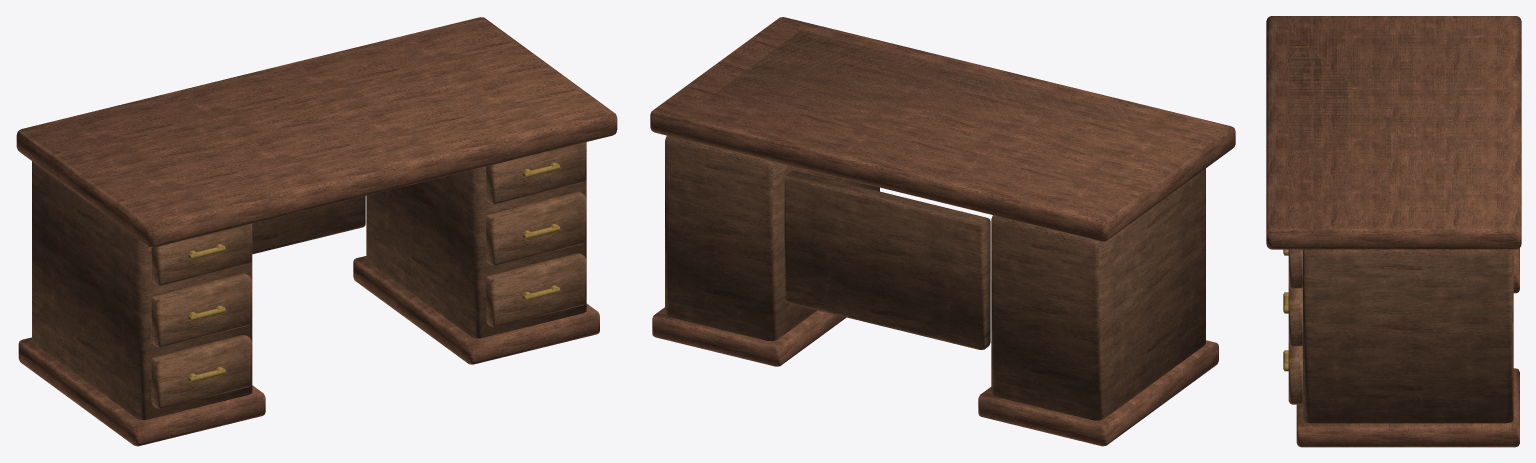
Rendered from asset_066_office_laptop_desk.glb.
3 views of the same model, side by side, from view 1: azimuth 30°, elevation 25°; view 2: azimuth 150°, elevation 25°; view 3: azimuth 270°, elevation 25° (orthographic). The views are drawn at different scales.
Parts seen in each view (by area): view 1: MESH_DeskTop, MESH_OfficeDeskDrawerFrontSet, MESH_WestPedestal, MESH_EastPedestal, MESH_DeskPlinthSet, MESH_RearModestyPanel, MESH_OfficeDeskBrassPullSet; view 2: MESH_DeskTop, MESH_WestPedestal, MESH_RearModestyPanel, MESH_EastPedestal, MESH_DeskTopInset, MESH_DeskPlinthSet; view 3: MESH_DeskTop, MESH_EastPedestal, MESH_DeskTopInset, MESH_DeskPlinthSet, MESH_OfficeDeskDrawerFrontSet, MESH_OfficeDeskBrassPullSet.
Part boxes in pixels (x1,y1,x2,y2): MESH_DeskTop: [16, 17, 617, 247]; MESH_OfficeDeskDrawerFrontSet: [151, 142, 586, 408]; MESH_WestPedestal: [32, 161, 252, 419]; MESH_EastPedestal: [366, 142, 586, 338]; MESH_DeskPlinthSet: [18, 256, 599, 446]; MESH_RearModestyPanel: [252, 196, 365, 254]; MESH_OfficeDeskBrassPullSet: [188, 162, 560, 383]; MESH_DeskTop: [650, 17, 1235, 241]; MESH_WestPedestal: [991, 168, 1205, 420]; MESH_RearModestyPanel: [784, 171, 990, 349]; MESH_EastPedestal: [665, 135, 879, 341]; MESH_DeskTopInset: [703, 31, 1191, 198]; MESH_DeskPlinthSet: [652, 307, 1218, 446]; MESH_DeskTop: [1266, 16, 1521, 249]; MESH_EastPedestal: [1303, 249, 1513, 423]; MESH_DeskTopInset: [1289, 29, 1485, 214]; MESH_DeskPlinthSet: [1296, 248, 1519, 447]; MESH_OfficeDeskDrawerFrontSet: [1288, 249, 1302, 404]; MESH_OfficeDeskBrassPullSet: [1283, 249, 1288, 371].
Bounding box in the file's own units: 1.6 × 0.76 × 0.8.
5 materials, 4 textured.
